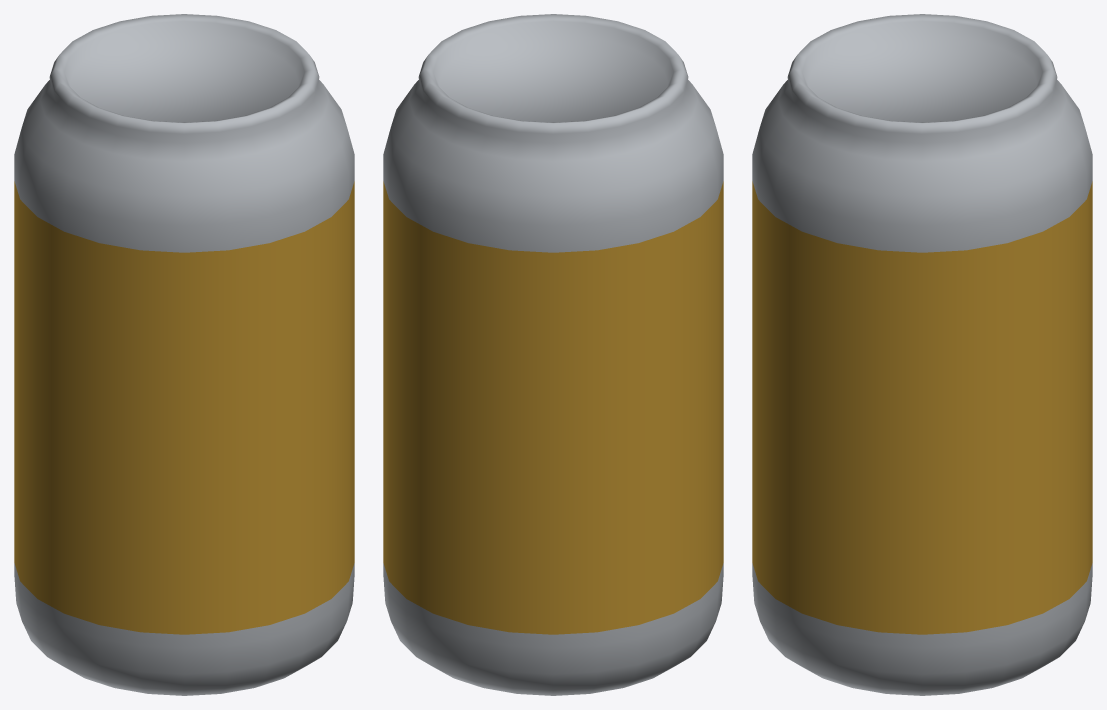
Rendered from can.glb.
3 views of the same model, side by side, from view 1: azimuth 30°, elevation 25°; view 2: azimuth 150°, elevation 25°; view 3: azimuth 270°, elevation 25° (orthographic).
Visible parts, largest first — view 1: can; view 2: can; view 3: can.
Boxes of the visible parts, left/top/right/bottom form: can: left=14, top=14, right=354, bottom=695; can: left=383, top=14, right=723, bottom=695; can: left=752, top=14, right=1092, bottom=695.
Size of the model in its own units: 0.092 by 0.1705 by 0.092.
